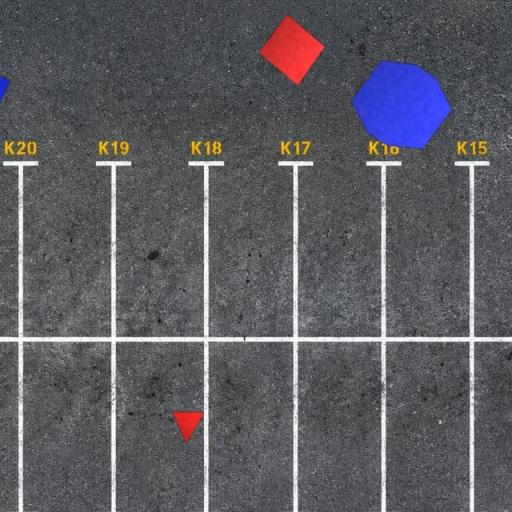RED_SQUARE: (258, 14, 326, 86)
